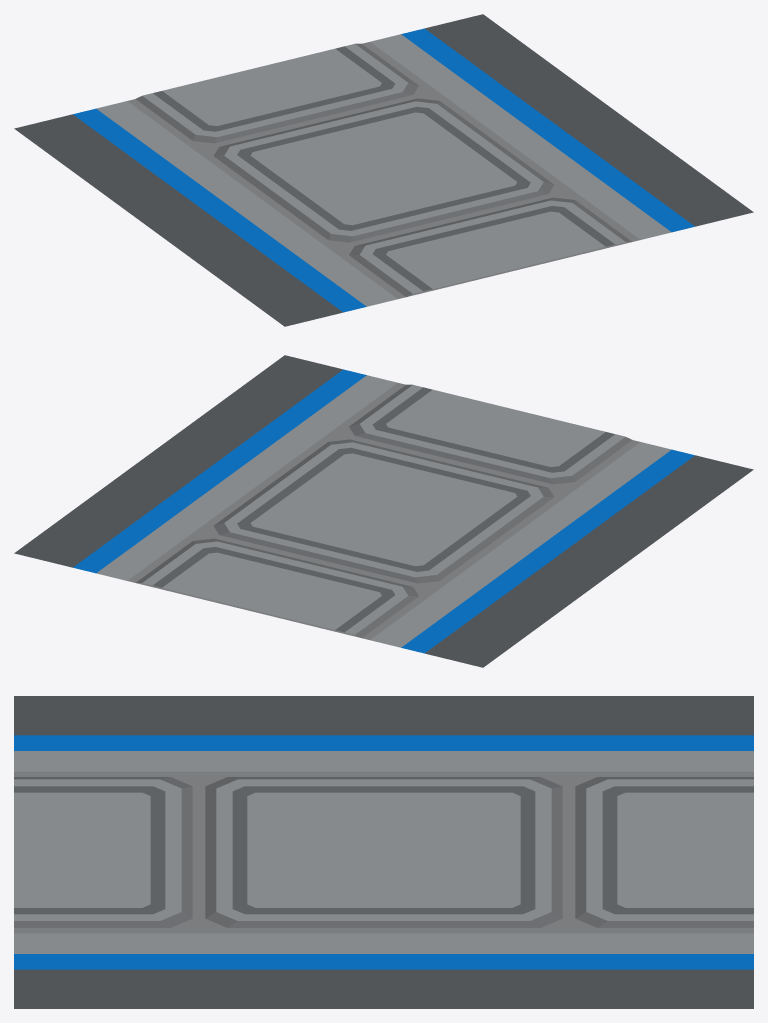
Rendered from Floor_type_B_032_002.glb.
3 views of the same model, one above another, from view 1: azimuth 30°, elevation 25°; view 2: azimuth 150°, elevation 25°; view 3: azimuth 270°, elevation 25° (orthographic). The views are drawn at different scales.
Parts seen in each view (by area): view 1: Floor_type_B_032.002; view 2: Floor_type_B_032.002; view 3: Floor_type_B_032.002.
Boxes of the visible parts, left/top/right/bottom form: Floor_type_B_032.002: left=14, top=14, right=753, bottom=326; Floor_type_B_032.002: left=14, top=355, right=753, bottom=667; Floor_type_B_032.002: left=14, top=696, right=753, bottom=1008.
Bounding box in the file's own units: 4 × 0.0134 × 4.
Materials: 2 (2 with a texture image).
